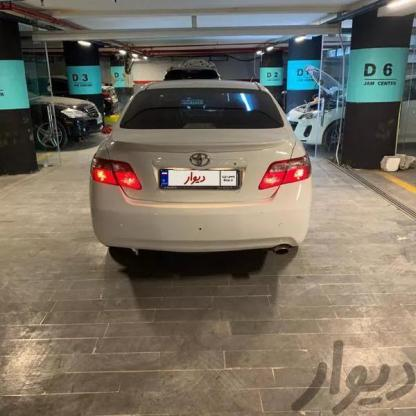Car: (93, 83, 300, 273), (288, 67, 416, 172), (0, 90, 105, 151)
